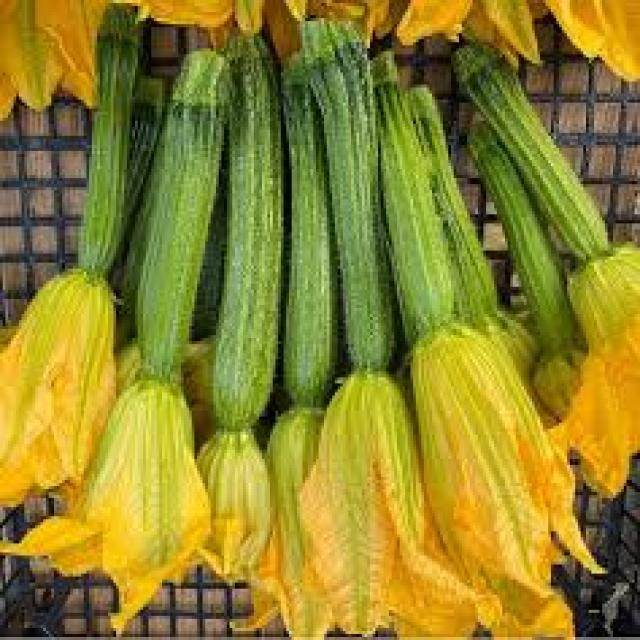Zucchini: (216, 42, 290, 426)
